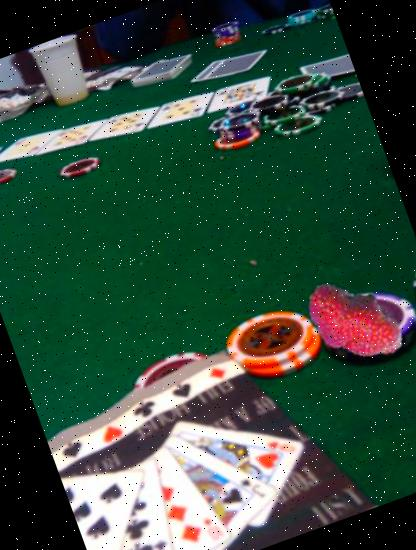Strawberry: (288, 255, 416, 388)
